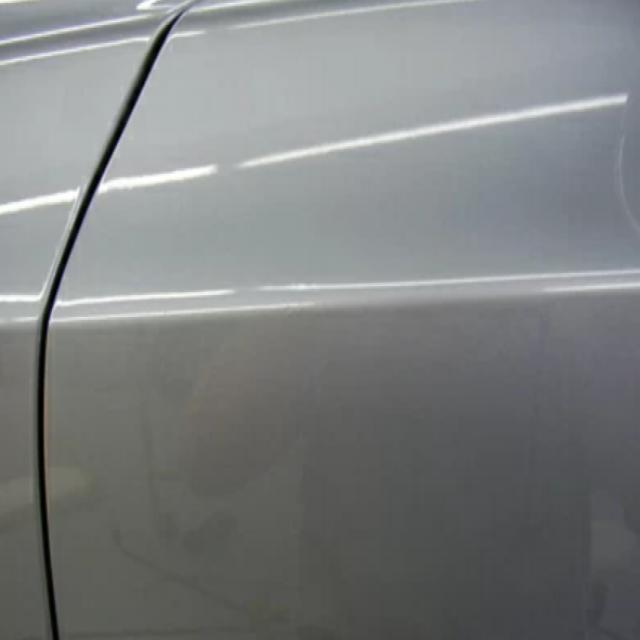dents: (573, 474, 640, 640)
